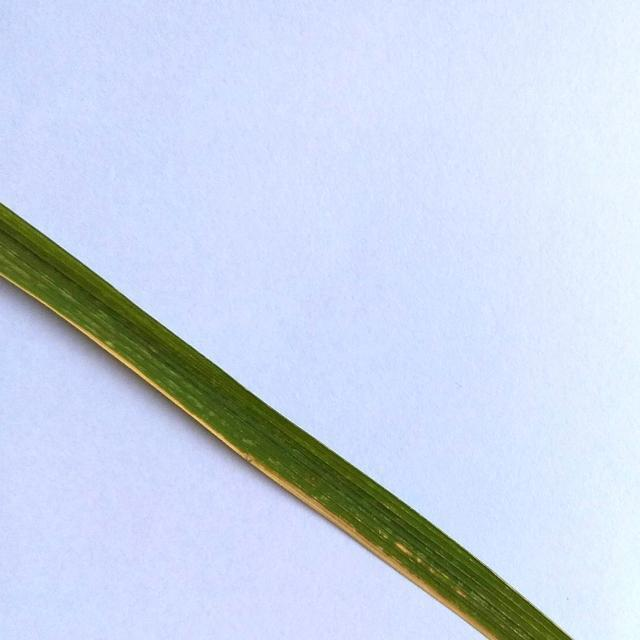Blast: (396, 539, 424, 560)
